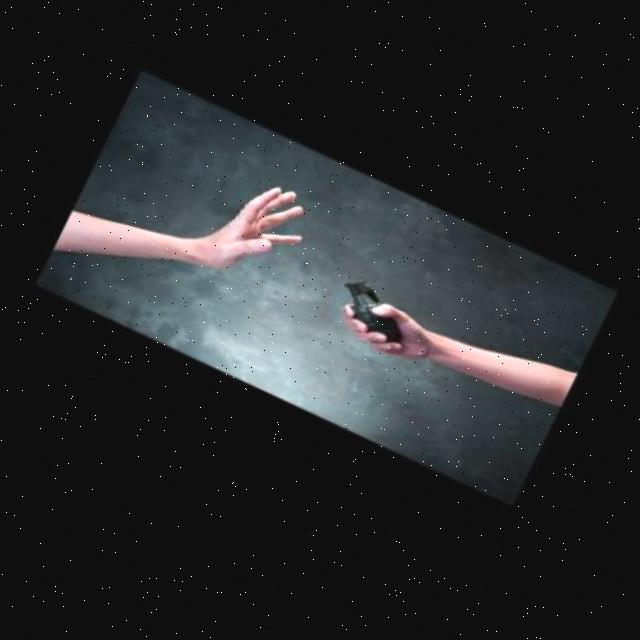grenade: (310, 263, 433, 354)
